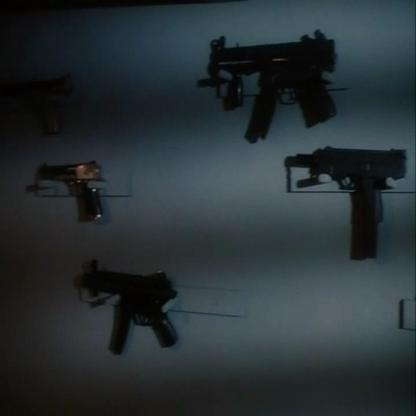gun: (198, 30, 356, 140), (275, 142, 407, 268), (71, 261, 190, 371), (33, 145, 127, 230)
